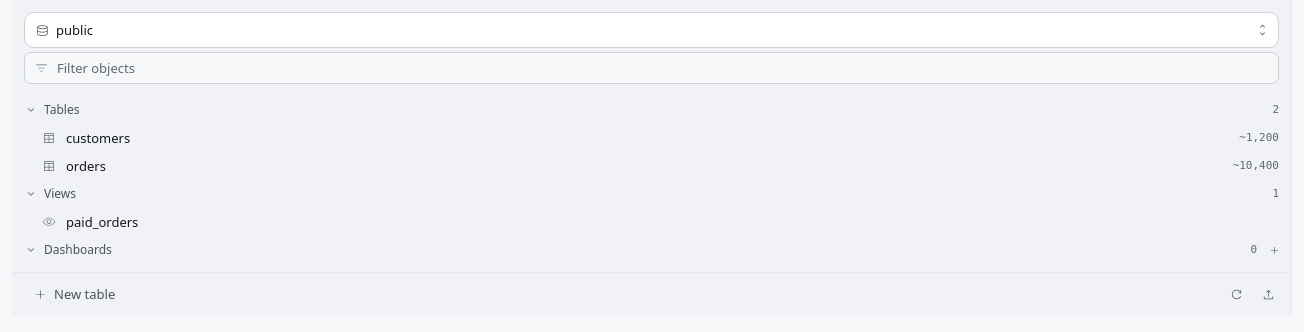
Test: Sidebar › filters forgivingly: typos and spaces for underscores, best match first
Type "odrers" into the field labelled "Filter objects" at {"x": 652, "y": 68}, box [24,52,1279,84]
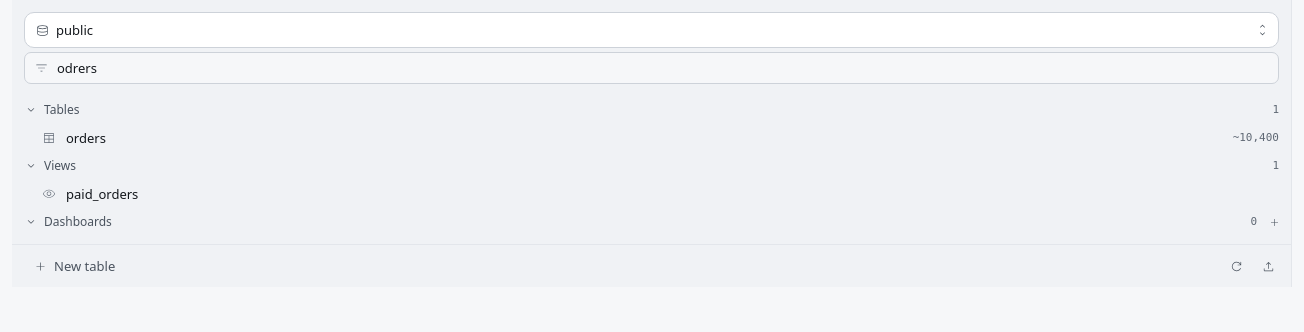
Replace the text in the field named "Filter objects" with "ord" at {"x": 652, "y": 68}, box [24,52,1279,84]
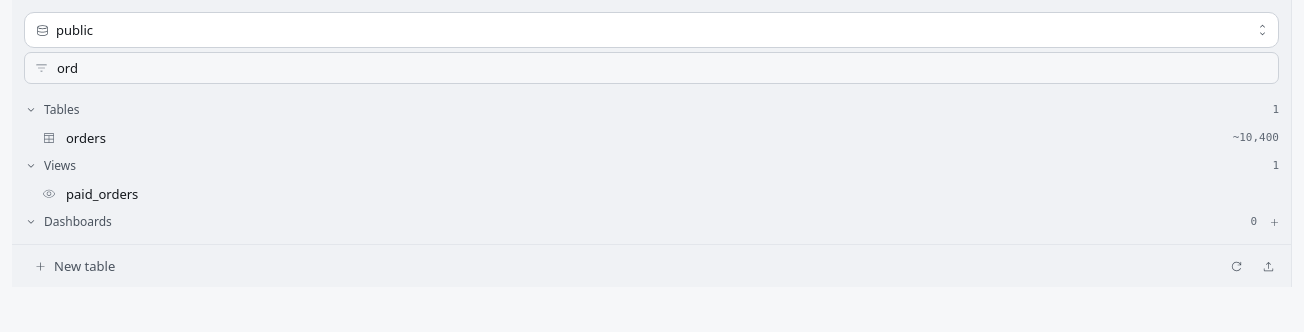
Replace the text in the field named "Filter objects" with "paid ord" at {"x": 652, "y": 68}, box [24,52,1279,84]
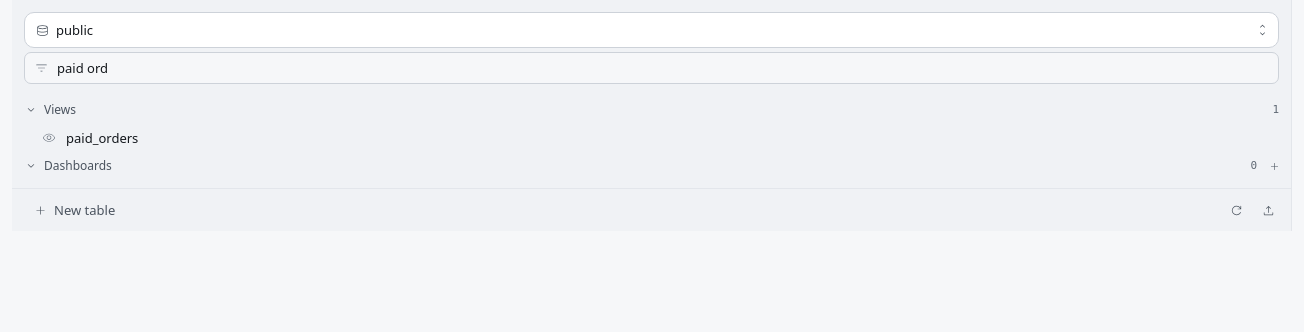
Replace the text in the field named "Filter objects" with "odrers" at {"x": 652, "y": 68}, box [24,52,1279,84]
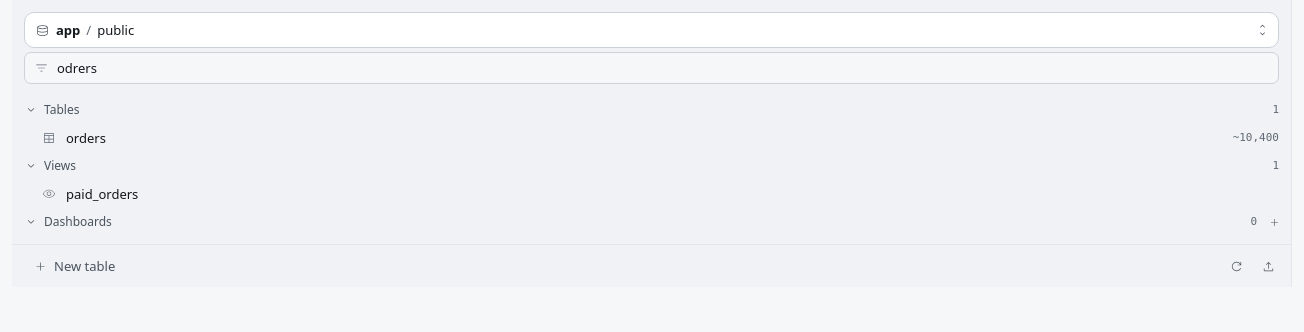
Expected: the list item "customers" is not shown
Expected: the list item "orders ~10,400" is shown, [18,124,1285,152]
